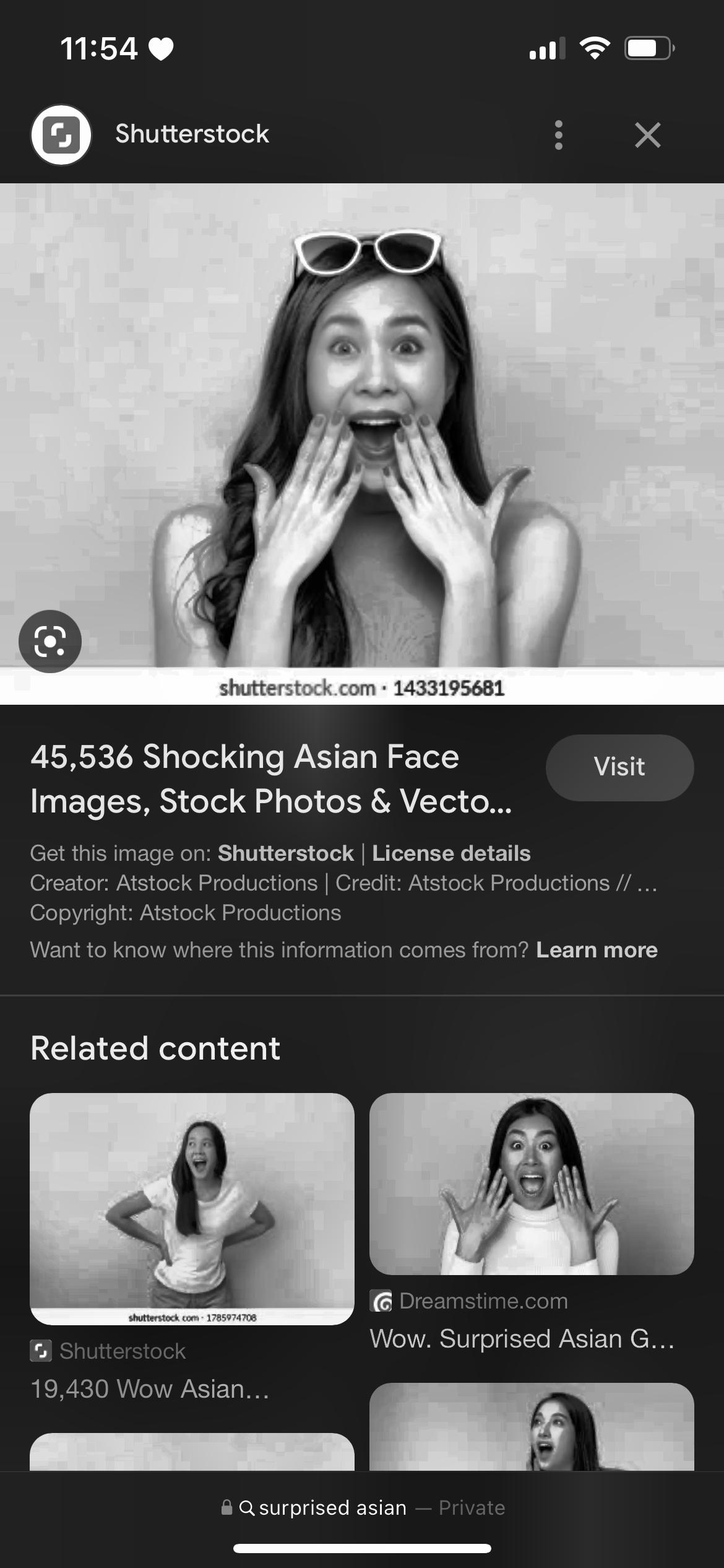Surprised: (300, 258, 452, 508)
